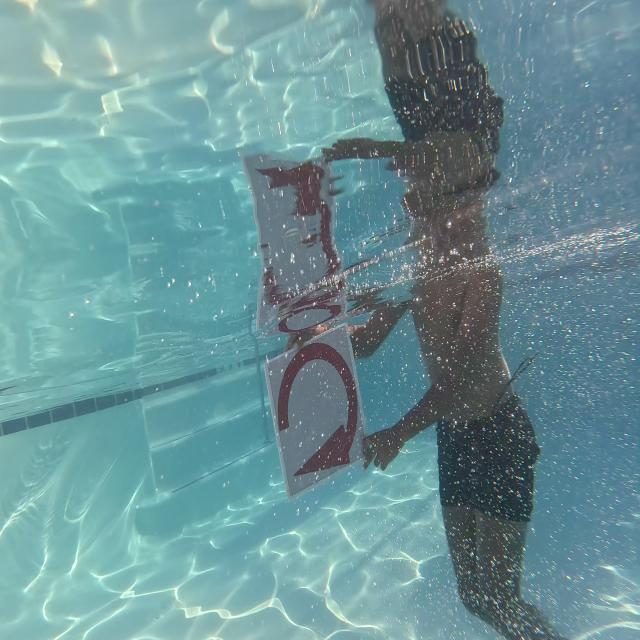red_side: (258, 320, 369, 476)
